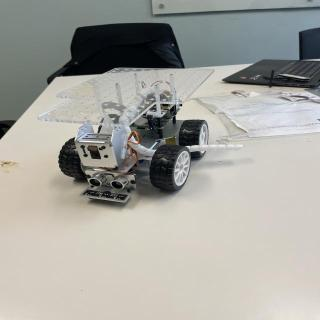vehicle: (59, 74, 217, 208)
